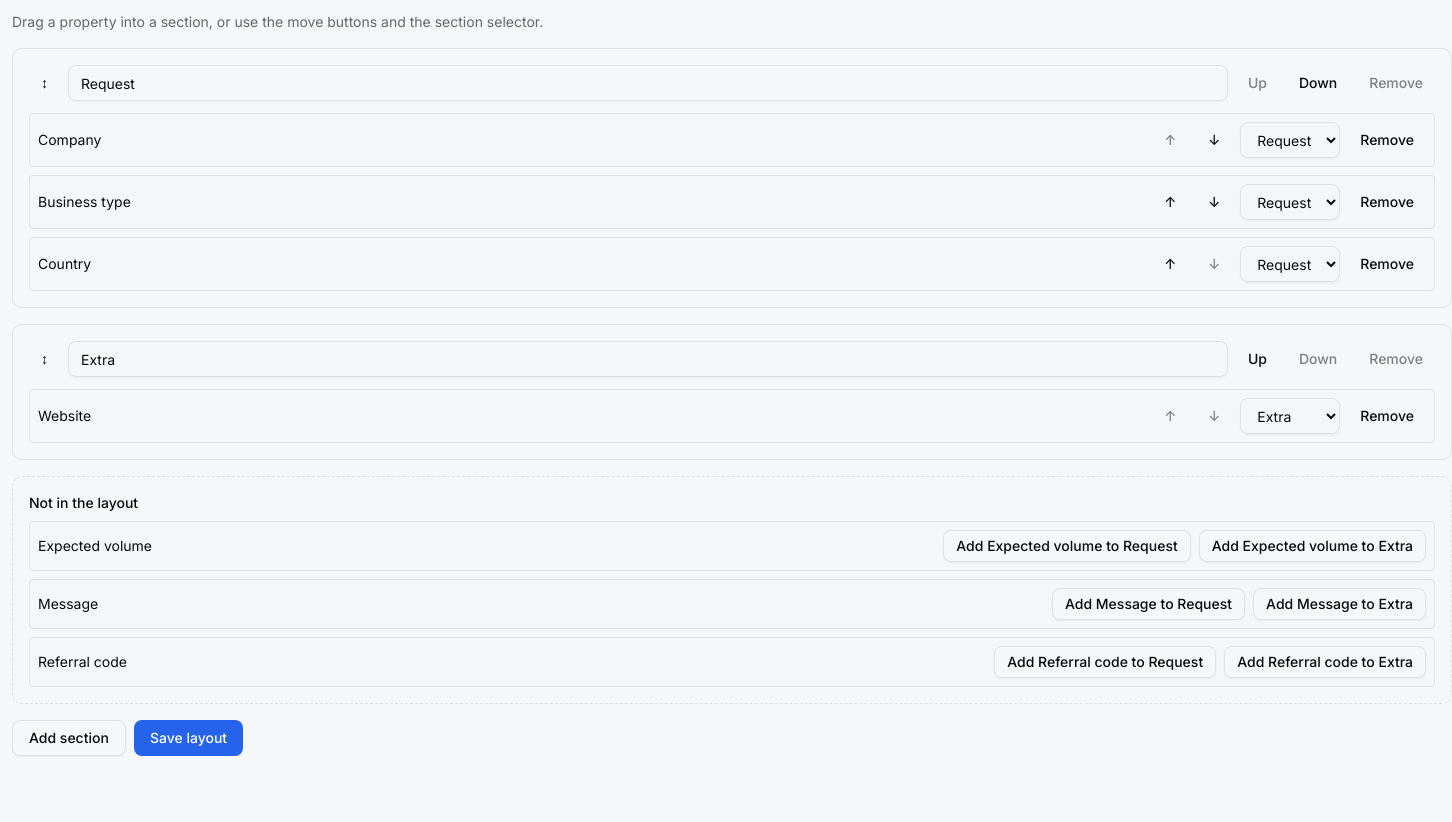
Test: LayoutEditor › says when the layout was saved and shows the reason when it was not
The image size is (1452, 822).
Click the button "Save layout" at [188, 738], box [134,720,243,756]
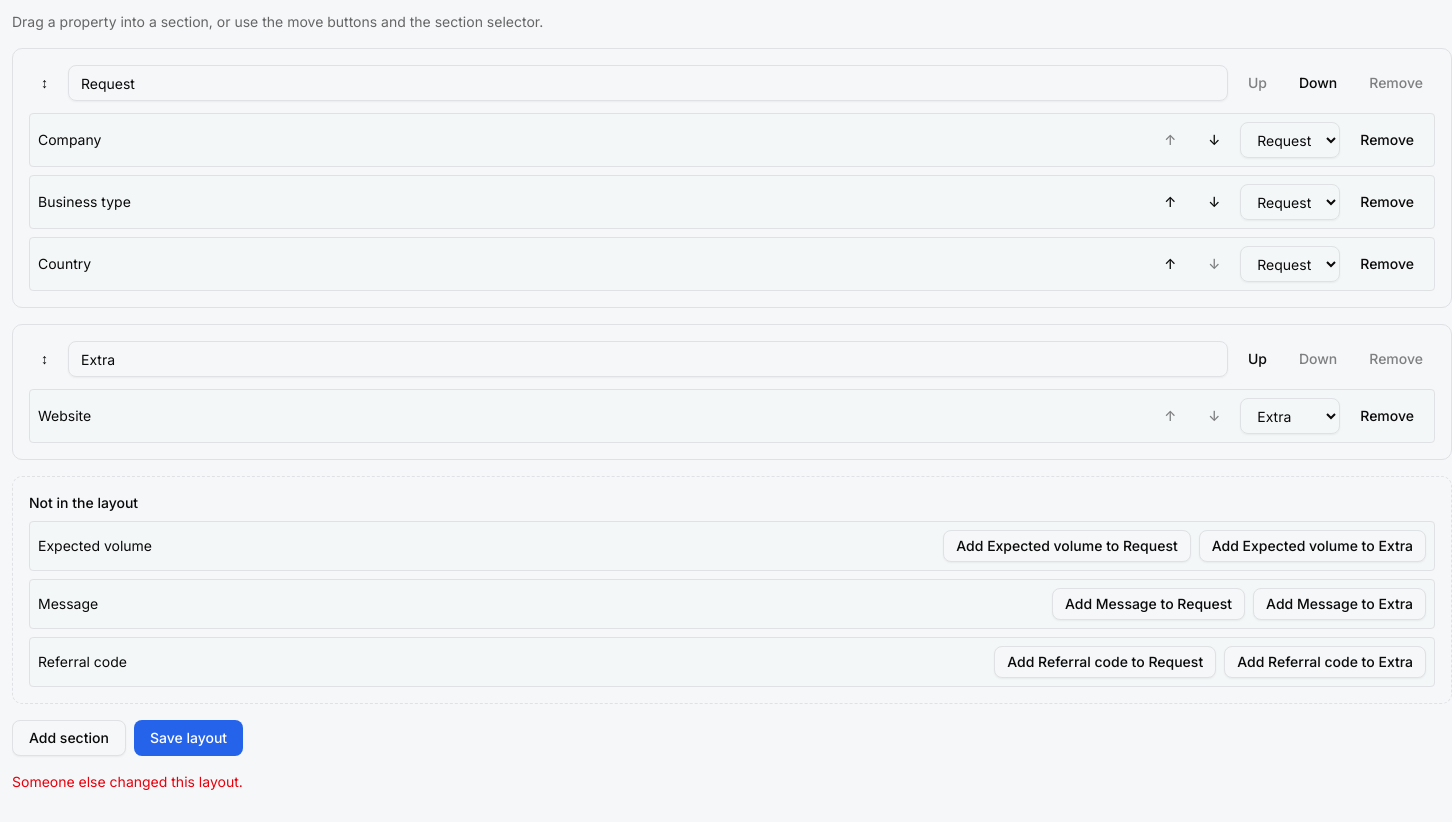
Expected: the message reads "Someone else changed this layout.", [12,773,243,790]
Click the button "Save layout" at [188, 738], box [134,720,243,756]
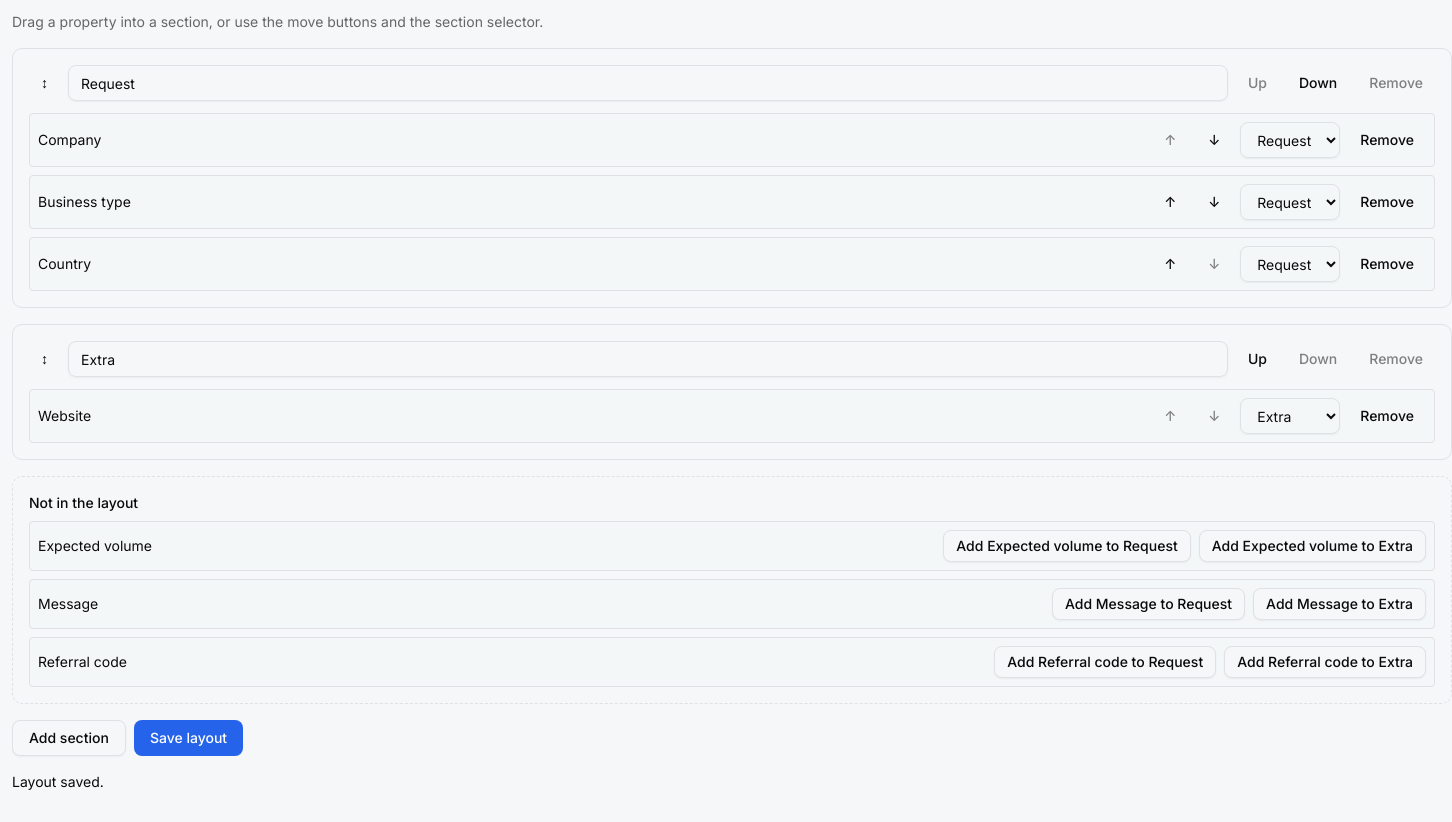
Expected: the message reads "Layout saved.", [12,773,104,790]
